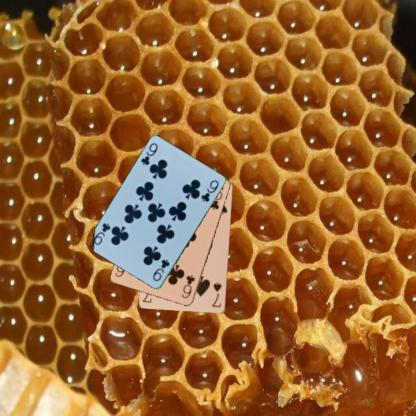6c: (179, 273, 197, 300)
7s: (210, 280, 223, 309)
9c: (138, 140, 159, 167), (150, 257, 171, 283)
